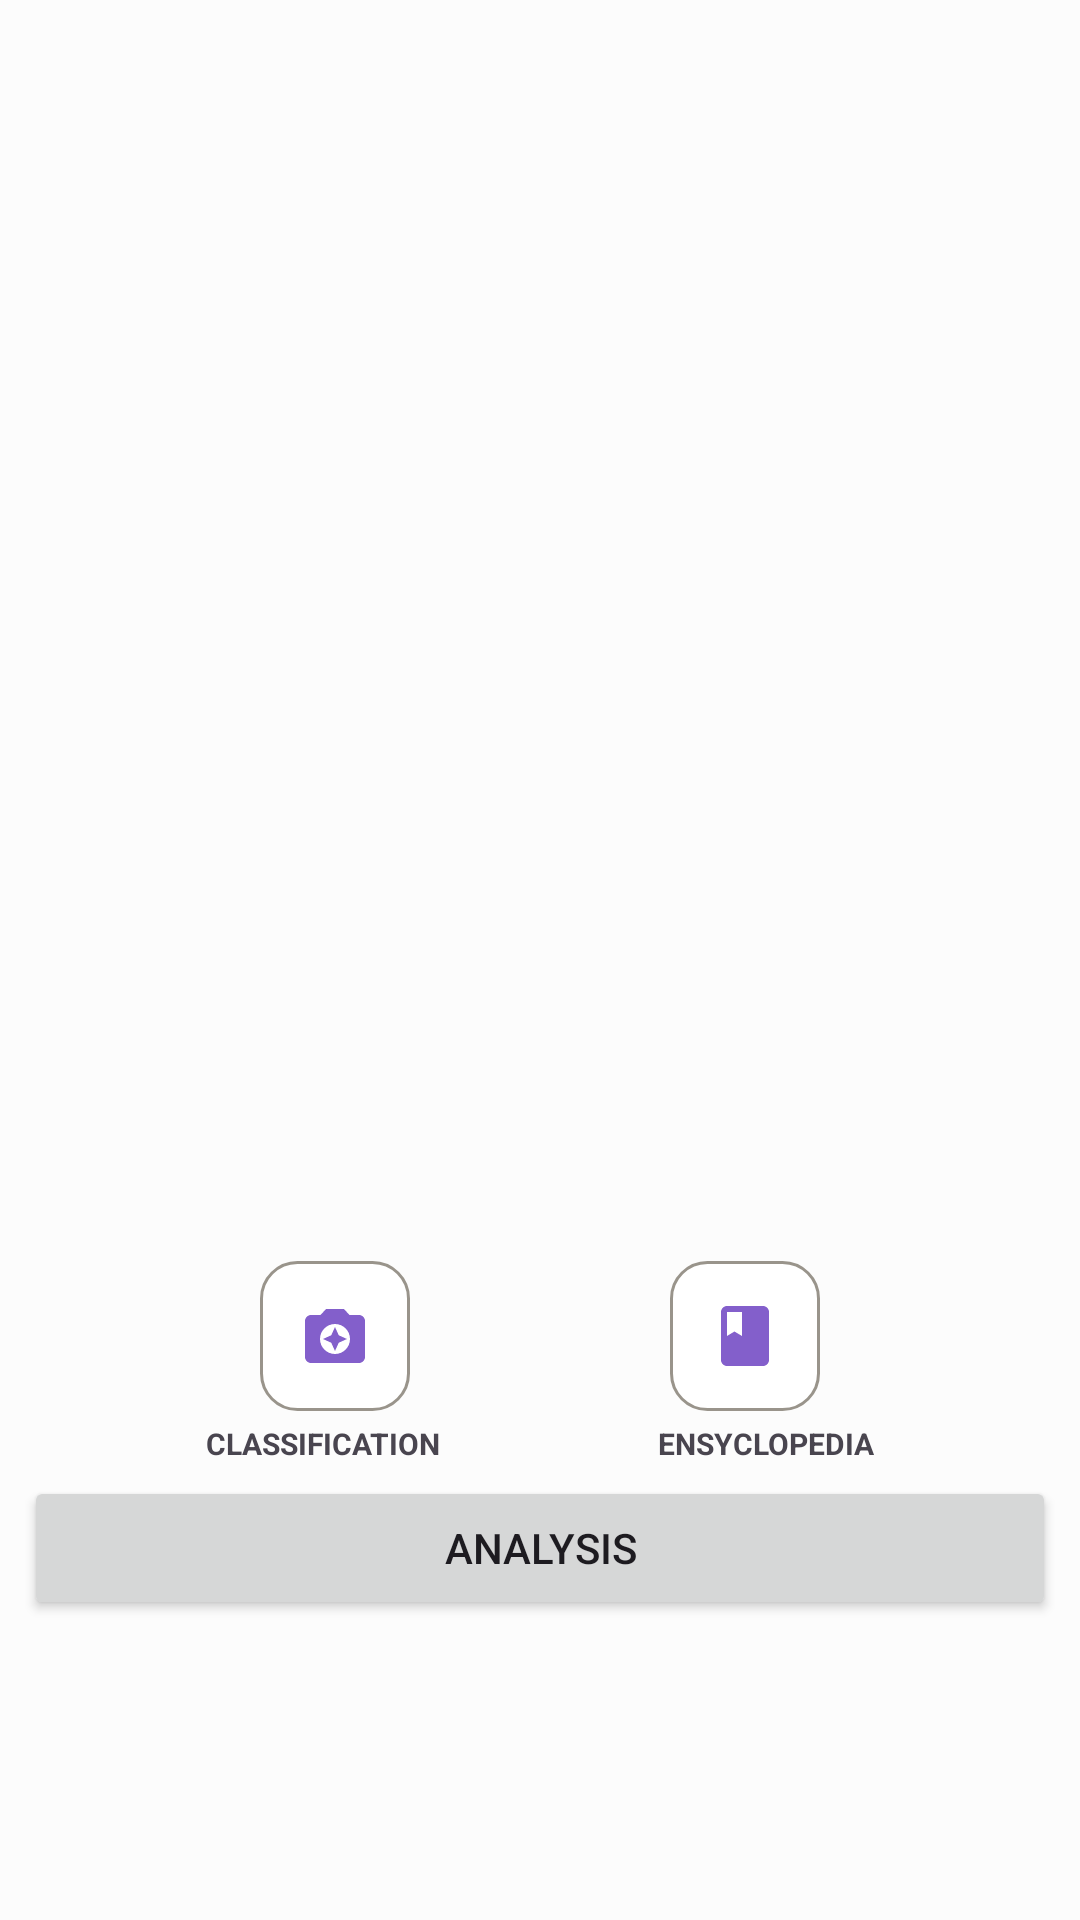

Icons on this 1080 × 1920 Android screen, each with its box as (x1, y1, x2, y2):
Ambil gambar menggunakan kamera: (260, 1261, 410, 1411)
